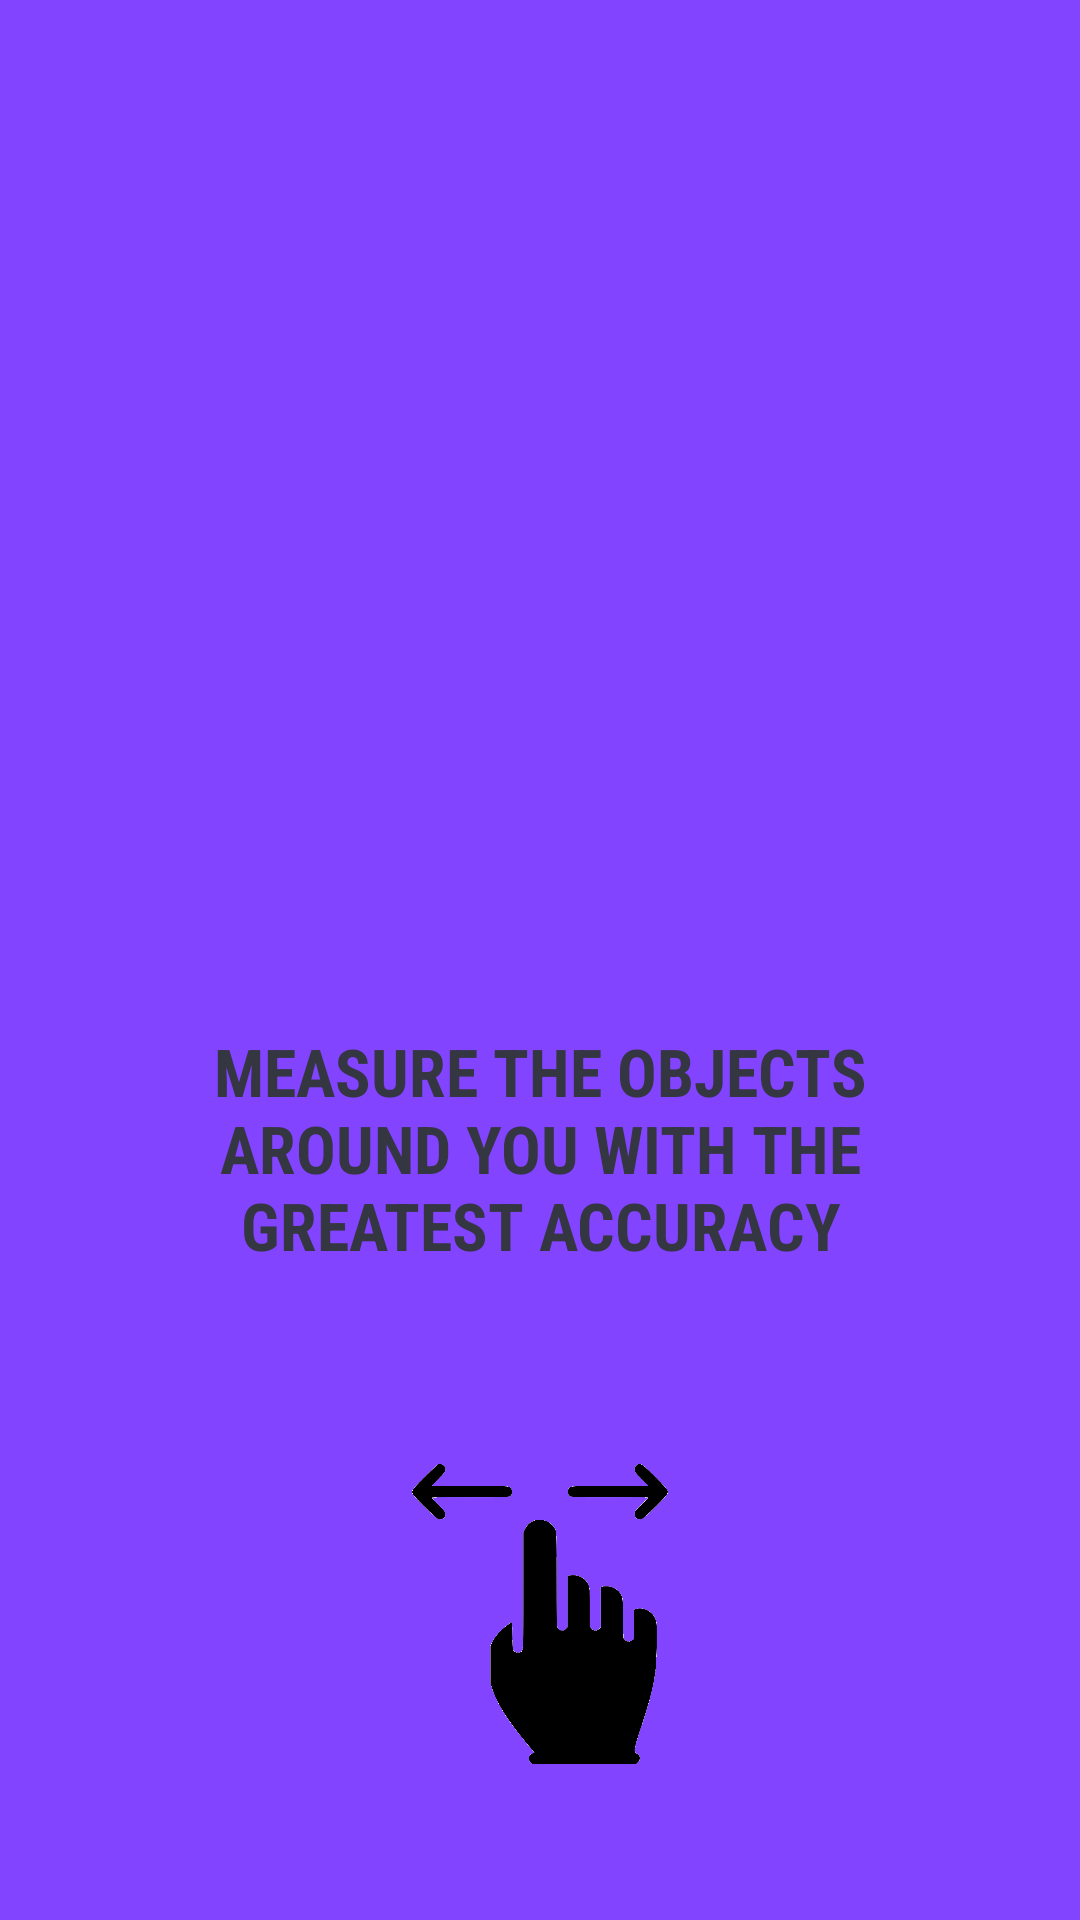

Where to tap for icons on this 1080x1920 app screen, as point (x, y):
swipe sprite: point (540, 1614)
